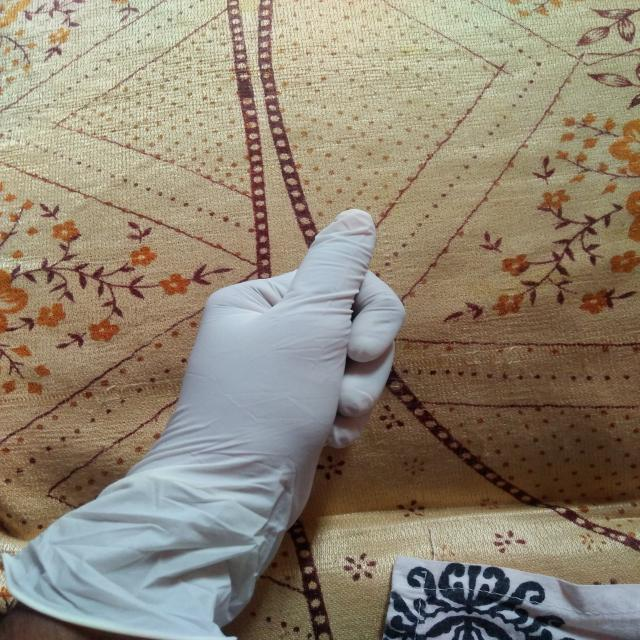glove: (4, 207, 414, 640)
